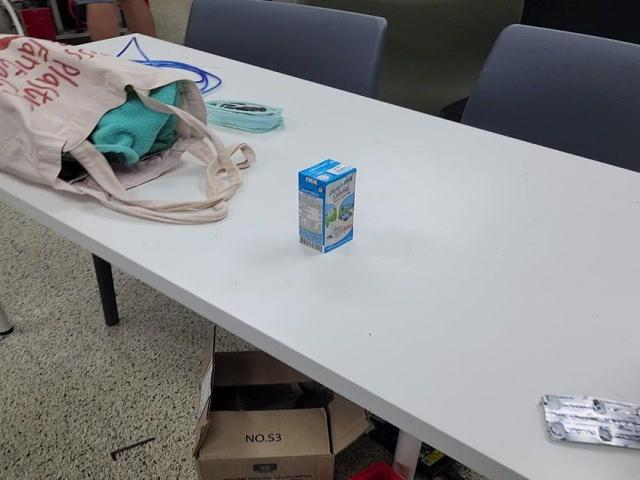drink_box: (285, 154, 369, 260)
